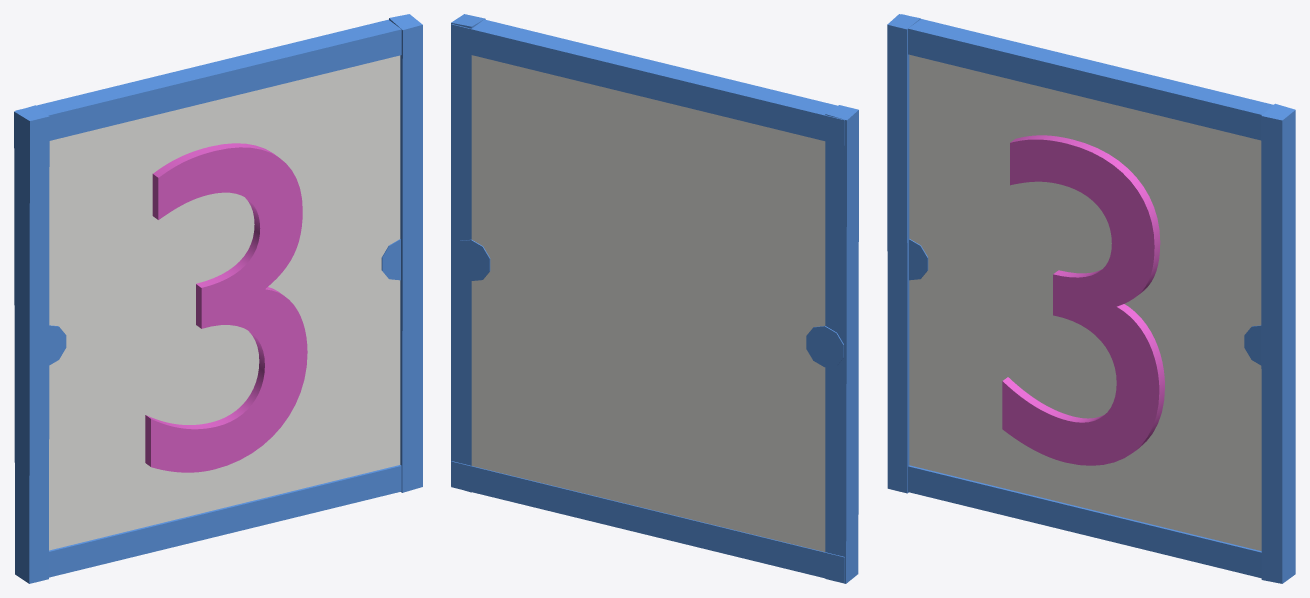
The model's file is Sign_Cartoon_3.fbx.
3 views of the same model, side by side, from view 1: azimuth 30°, elevation 25°; view 2: azimuth 150°, elevation 25°; view 3: azimuth 330°, elevation 25° (orthographic).
Parts seen in each view (by area): view 1: Sign_Cartoon_3; view 2: Sign_Cartoon_3; view 3: Sign_Cartoon_3.
Boxes of the visible parts, x1=… form: Sign_Cartoon_3: x1=14, y1=14, x2=422, y2=583; Sign_Cartoon_3: x1=451, y1=14, x2=858, y2=583; Sign_Cartoon_3: x1=887, y1=14, x2=1295, y2=583.
Bounding box in the file's own units: 0.806 × 0.906 × 0.062.
